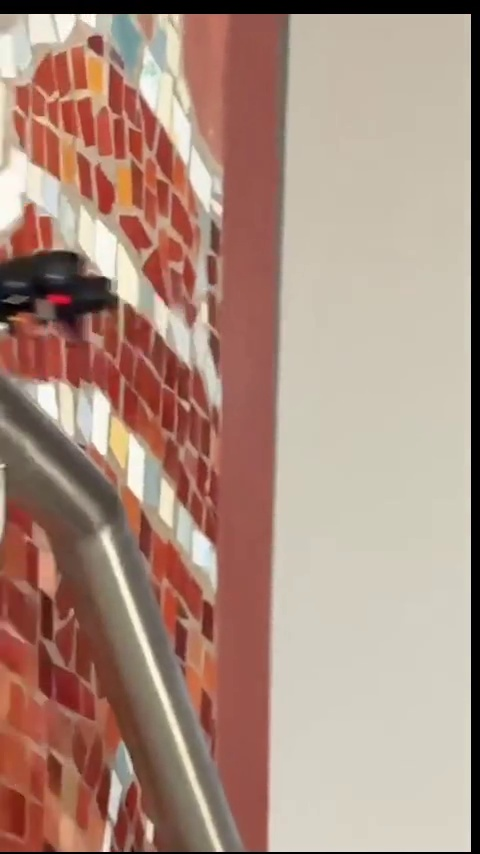drone: (0, 252, 113, 340)
